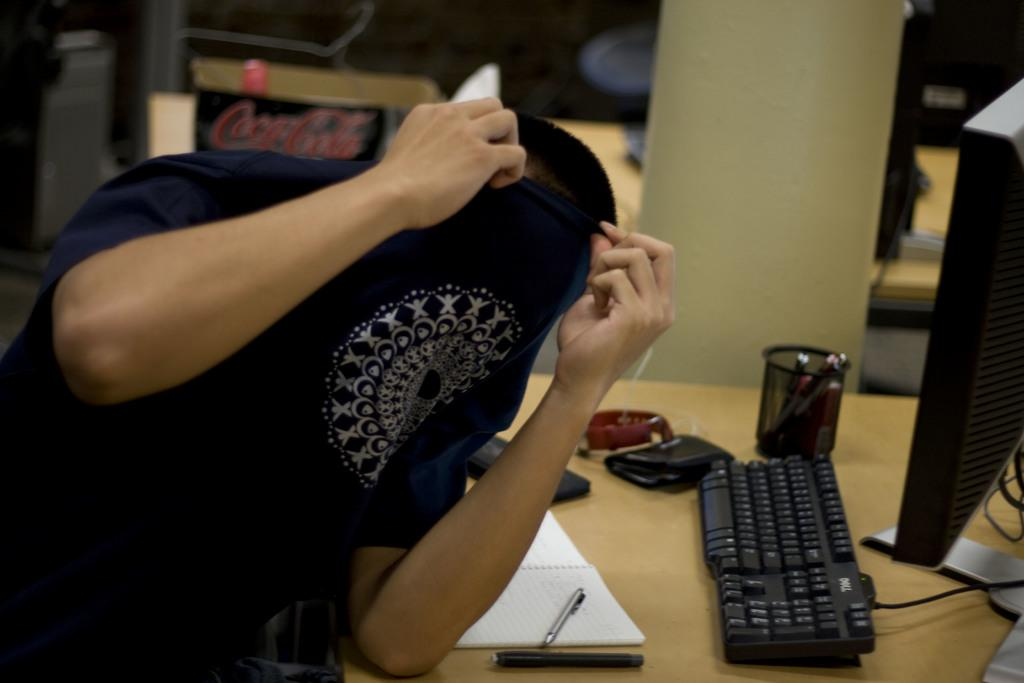Computer-keyboard: (694, 441, 886, 674)
